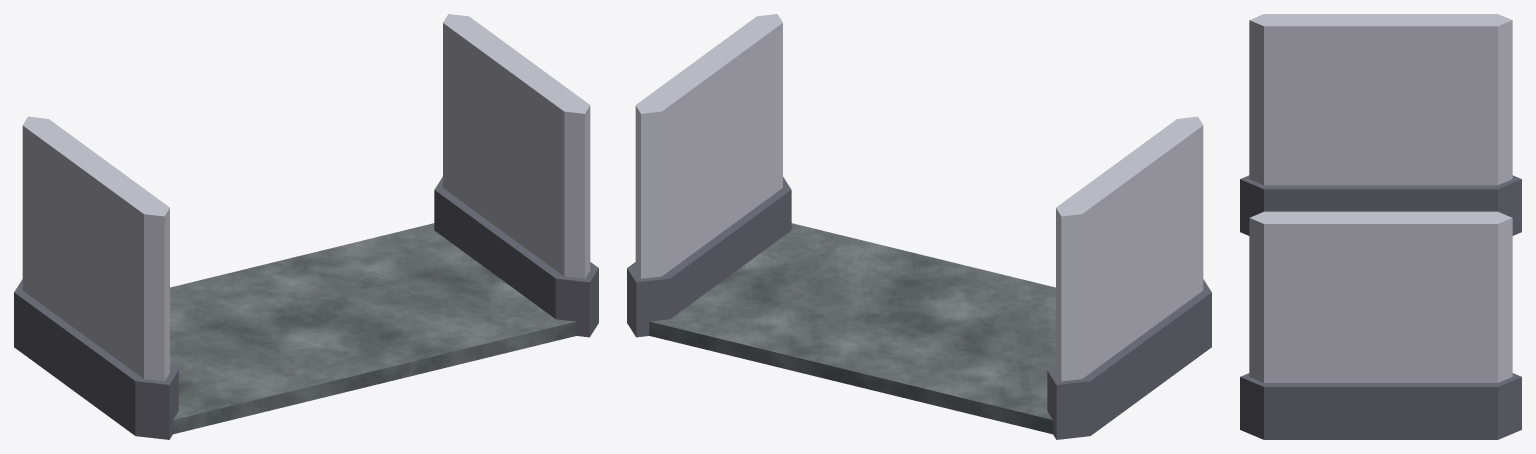
Rendered from hallway_short_02.fbx.
3 renders of one model, left to right at view 1: azimuth 30°, elevation 25°; view 2: azimuth 150°, elevation 25°; view 3: azimuth 270°, elevation 25°, orthographic. The views are drawn at different scales.
Parts seen in each view (by area): view 1: floor_04_90, wall_01_98, wall_01_97; view 2: floor_04_90, wall_01_98, wall_01_97; view 3: wall_01_97, wall_01_98.
Part boxes in pixels (x1,y1,x2,y2): floor_04_90: (170,223,576,434); wall_01_98: (14,116,178,439); wall_01_97: (434,14,598,337); floor_04_90: (649,223,1055,434); wall_01_98: (1047,116,1211,439); wall_01_97: (627,14,791,337); wall_01_97: (1240,211,1521,439); wall_01_98: (1240,14,1521,235).
Size of the model in its own units: 22.05 by 10 by 12.05.
